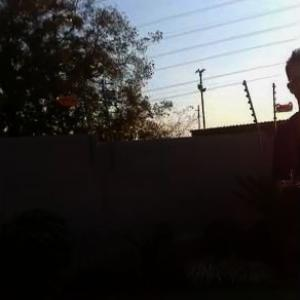follow: (269, 48, 299, 299)
